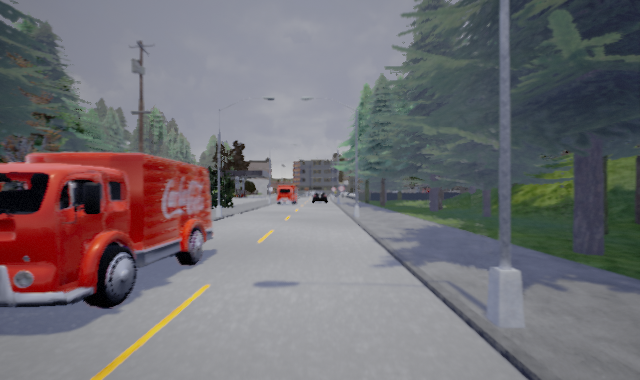vehicle: (1, 150, 213, 308), (273, 184, 298, 205), (311, 190, 326, 204)
